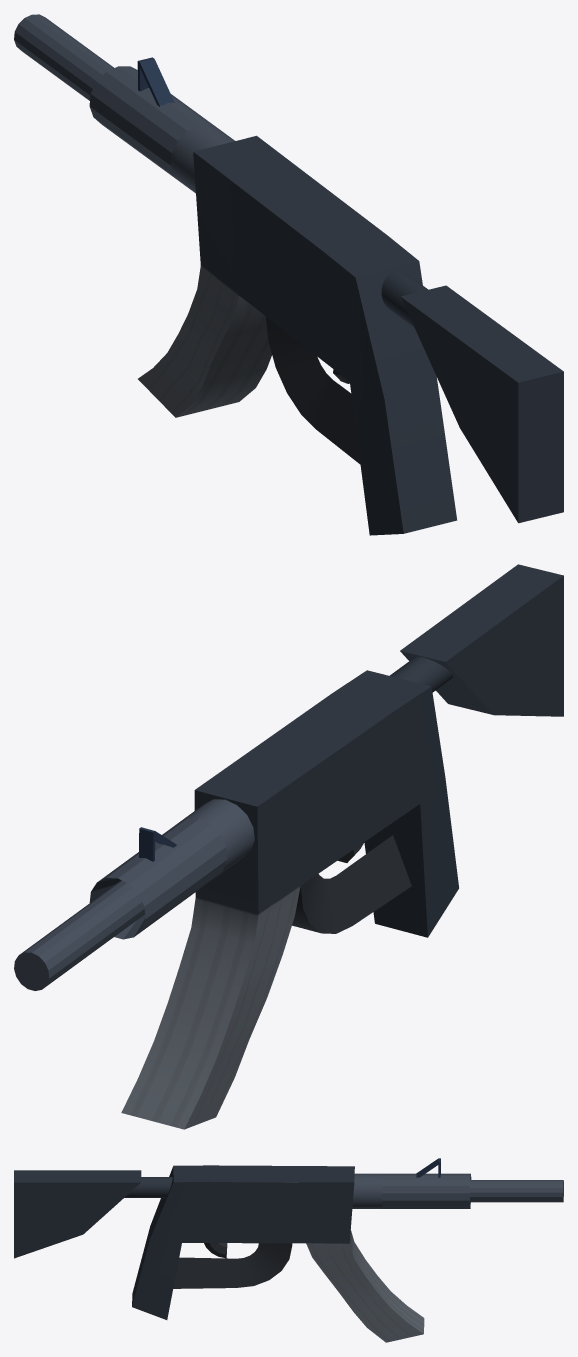
Rendered from pistol  model.fbx.
3 views of the same model, one above another, from view 1: azimuth 30°, elevation 25°; view 2: azimuth 150°, elevation 25°; view 3: azimuth 270°, elevation 25° (orthographic). The views are drawn at different scales.
Visible parts, largest first — view 1: plstol; view 2: plstol; view 3: plstol.
Part boxes in pixels (x1,y1,x2,y2): plstol: (14,14,563,535); plstol: (14,564,563,1129); plstol: (14,1158,563,1342).
Bounding box in the file's own units: 2.87 × 10.83 × 31.43.
Materials: 1 (1 with a texture image).
